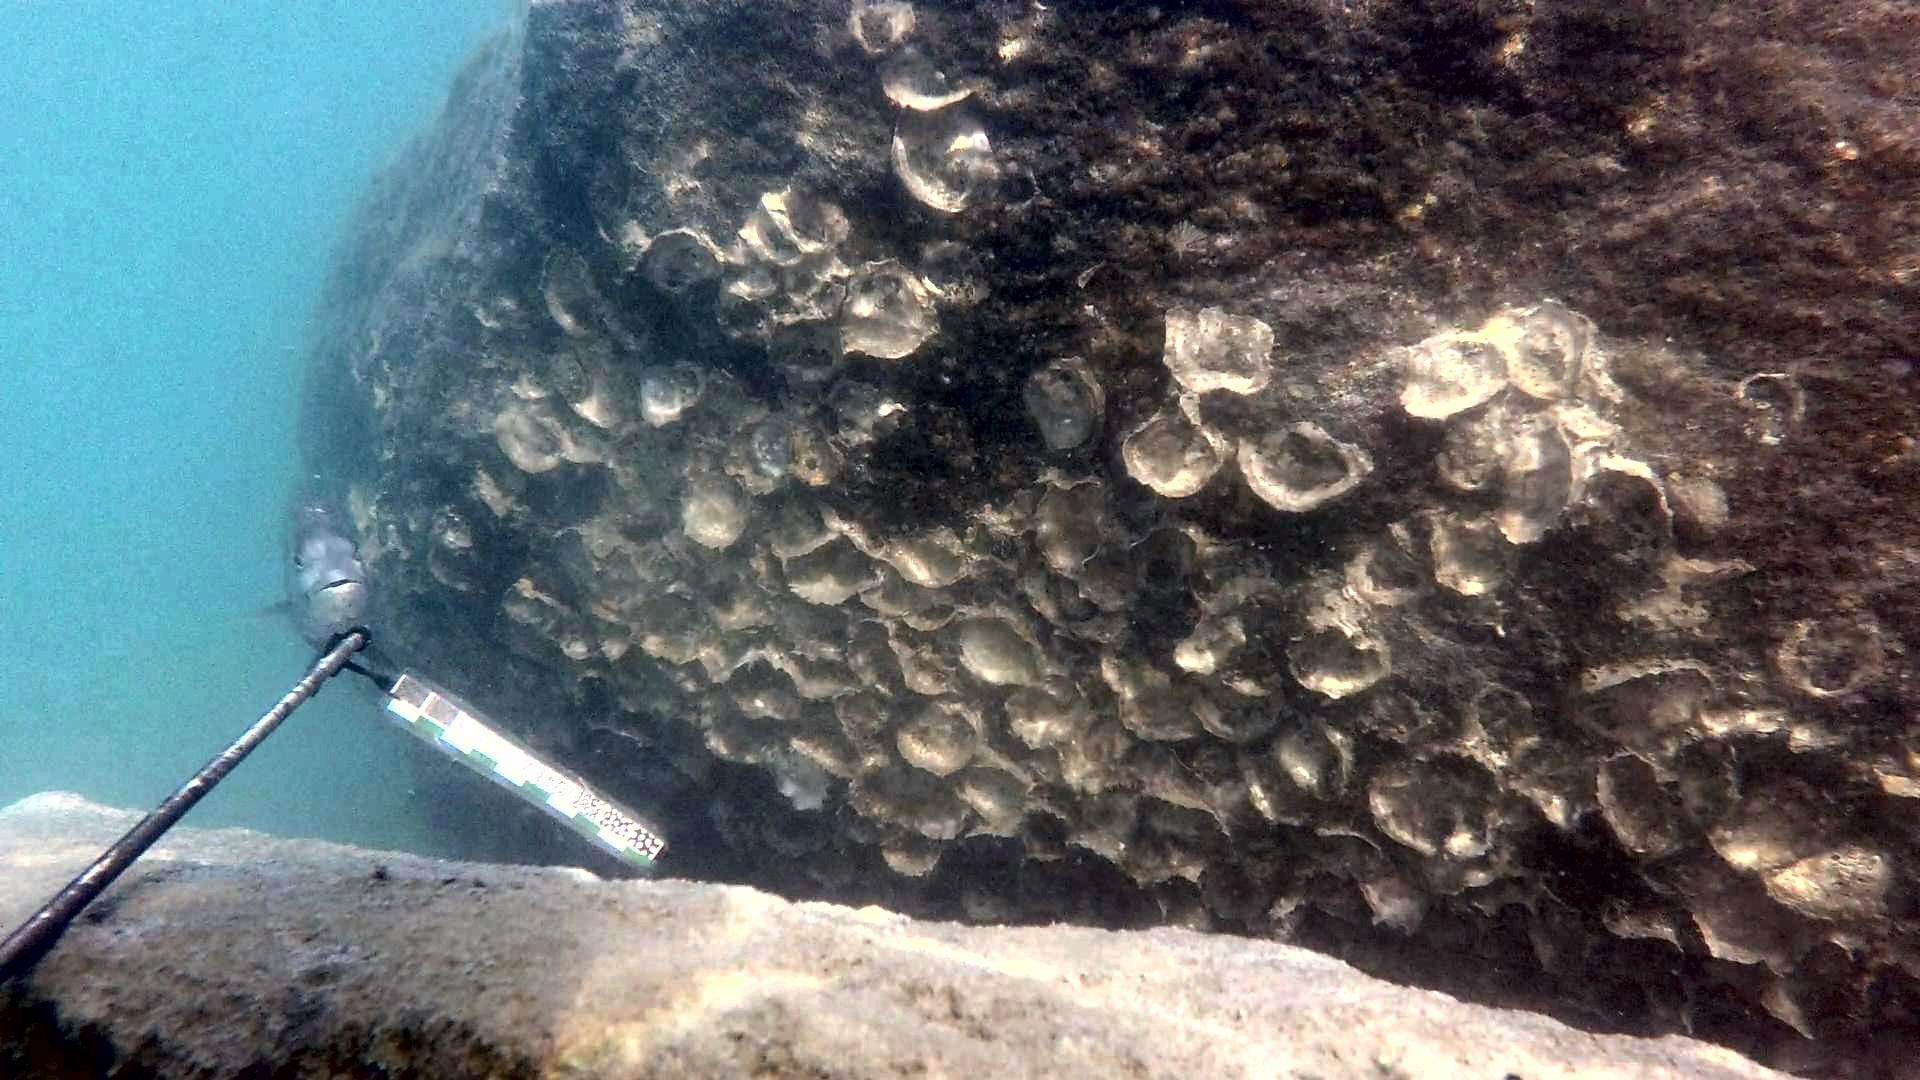acanthopagrus palmaris: (246, 463, 408, 682)
